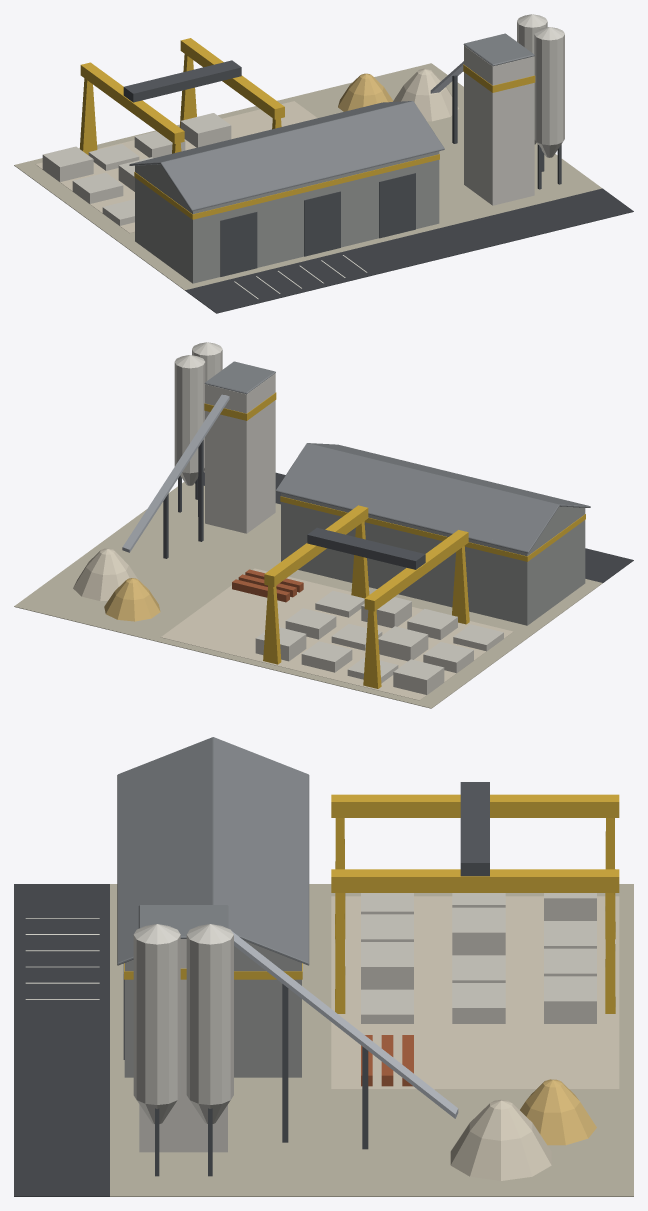
The model's file is constructionplant.glb.
3 views of the same model, one above another, from view 1: azimuth 30°, elevation 25°; view 2: azimuth 150°, elevation 25°; view 3: azimuth 270°, elevation 25° (orthographic). The views are drawn at different scales.
Visible parts, largest first — view 1: constructionplant; view 2: constructionplant; view 3: constructionplant.
Part boxes in pixels (box(x1,y1,x2,y2)): constructionplant: box(14, 14, 633, 313); constructionplant: box(14, 342, 633, 708); constructionplant: box(14, 737, 633, 1196).
Bounding box in the file's own units: 50 × 18.3 × 42.
